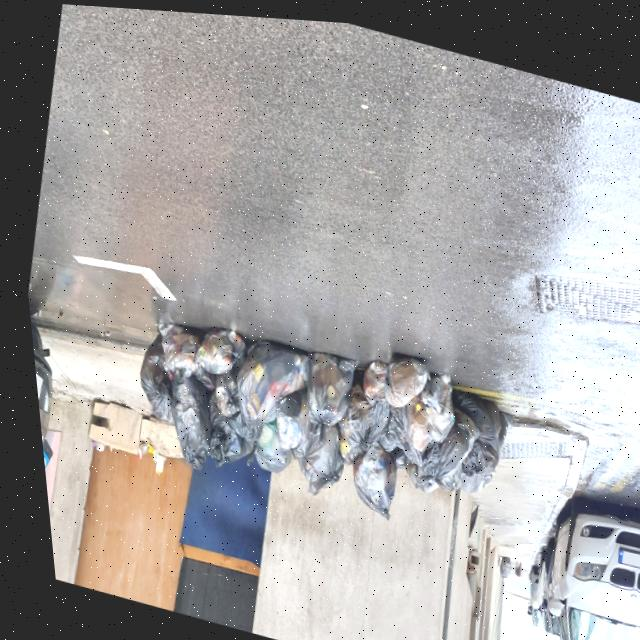Mixed Waste -Black Bag-: (214, 329, 311, 448), (318, 358, 395, 471), (382, 356, 459, 463), (145, 362, 218, 473), (283, 342, 357, 448), (401, 395, 481, 493), (428, 379, 504, 479), (442, 394, 514, 498), (187, 383, 258, 475), (275, 412, 346, 502), (120, 325, 183, 422), (331, 429, 397, 519), (140, 311, 208, 387), (256, 377, 311, 458), (362, 395, 425, 463), (232, 405, 292, 473), (182, 317, 244, 380), (370, 342, 428, 409), (199, 348, 244, 417), (390, 446, 436, 492), (351, 350, 386, 404), (126, 437, 141, 459)
Other: (486, 548, 502, 573), (143, 452, 157, 475), (85, 440, 97, 452), (141, 446, 149, 460), (136, 441, 146, 452), (82, 439, 88, 446), (126, 452, 131, 457)
